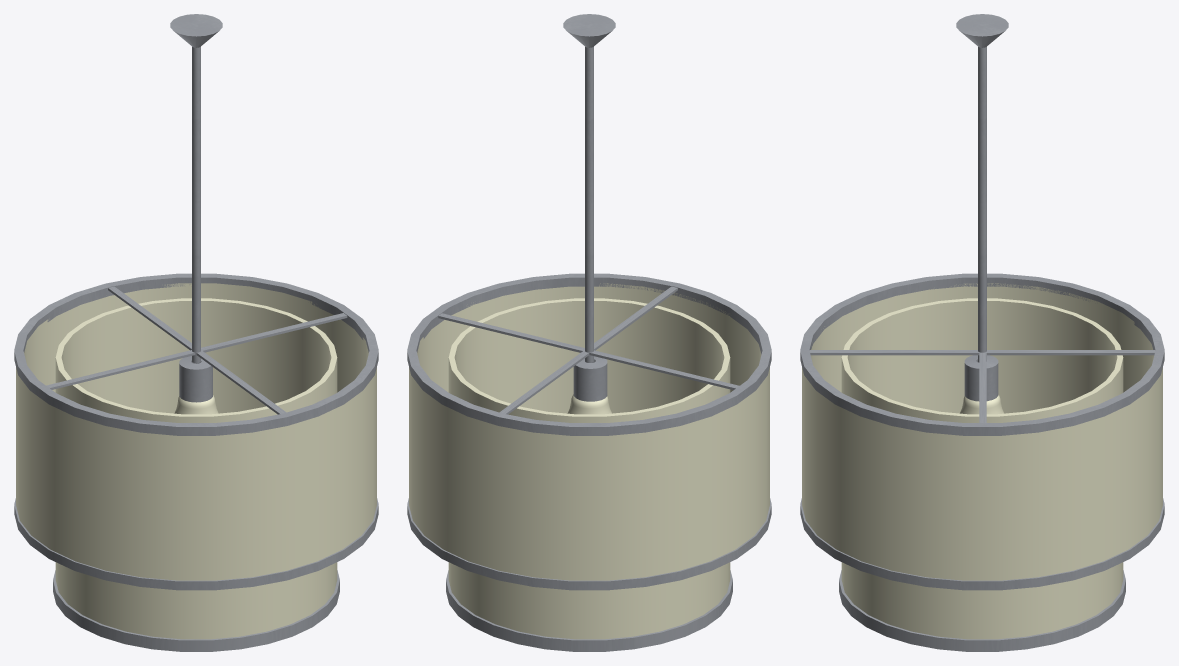
File: Ceiling Lamp 22.FBX
3 views of the same model, side by side, from view 1: azimuth 30°, elevation 25°; view 2: azimuth 150°, elevation 25°; view 3: azimuth 270°, elevation 25° (orthographic).
Visible parts, largest first — view 1: ceiling lamp 22; view 2: ceiling lamp 22; view 3: ceiling lamp 22.
Boxes of the visible parts, bbox=[...] form: ceiling lamp 22: bbox=[14, 14, 378, 651]; ceiling lamp 22: bbox=[407, 14, 771, 651]; ceiling lamp 22: bbox=[800, 14, 1164, 651].
Bounding box in the file's own units: 48.32 × 83.28 × 48.59.
2 materials, 1 textured.
